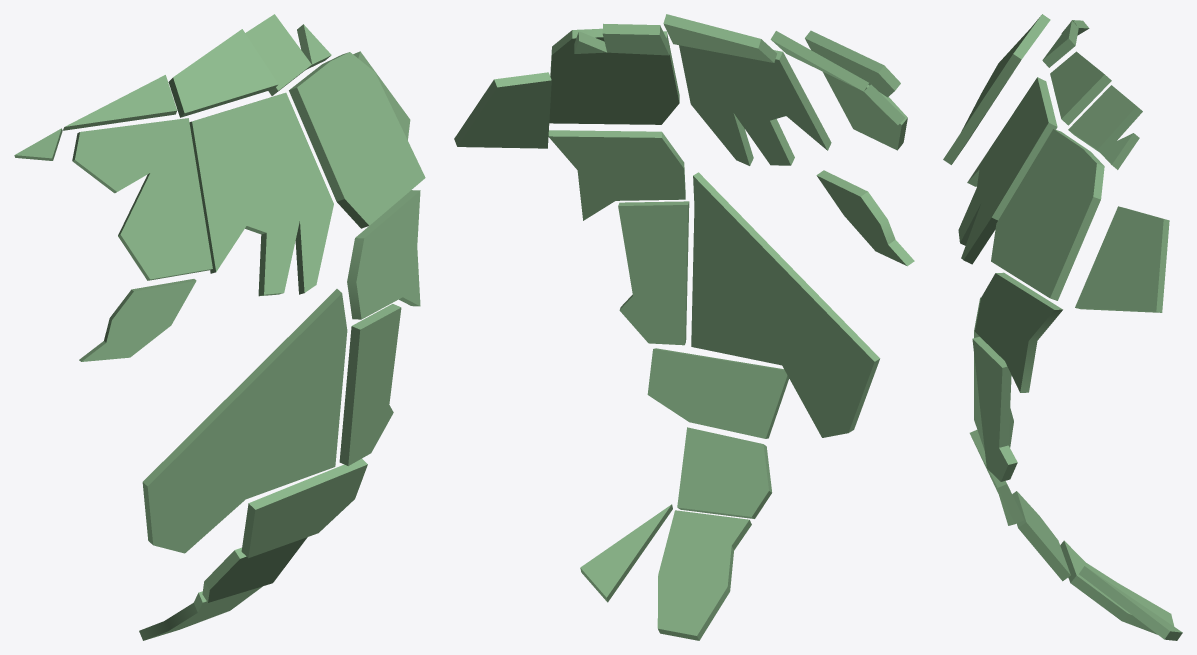
The model's file is Planet_Continent_Tets.fbx.
3 renders of one model, left to right at view 1: azimuth 30°, elevation 25°; view 2: azimuth 150°, elevation 25°; view 3: azimuth 270°, elevation 25°, orthographic. The views are drawn at different scales.
Visible parts, largest first — view 1: polySurface11, polySurface6, polySurface21, polySurface7, polySurface9, polySurface13, polySurface15, polySurface23, polySurface28, polySurface27, polySurface25, polySurface17 (+1 smaller); view 2: polySurface11, polySurface28, polySurface6, polySurface7, polySurface15, polySurface13, polySurface19, polySurface9, polySurface17, polySurface21, polySurface23, polySurface25 (+1 smaller); view 3: polySurface7, polySurface28, polySurface6, polySurface9, polySurface13, polySurface25, polySurface23, polySurface21, polySurface19, polySurface17, polySurface15, polySurface27 (+1 smaller).
Boxes of the visible parts, x1=… form: polySurface11: x1=142, y1=289, x2=347, y2=553; polySurface6: x1=189, y1=92, x2=333, y2=296; polySurface21: x1=72, y1=118, x2=212, y2=280; polySurface7: x1=289, y1=52, x2=425, y2=228; polySurface9: x1=347, y1=190, x2=420, y2=319; polySurface13: x1=339, y1=304, x2=401, y2=465; polySurface15: x1=241, y1=458, x2=367, y2=558; polySurface23: x1=168, y1=29, x2=278, y2=117; polySurface28: x1=79, y1=51, x2=410, y2=361; polySurface27: x1=14, y1=75, x2=177, y2=160; polySurface25: x1=245, y1=14, x2=331, y2=95; polySurface17: x1=202, y1=537, x2=307, y2=602; polySurface11: x1=691, y1=172, x2=880, y2=437; polySurface28: x1=454, y1=72, x2=914, y2=602; polySurface6: x1=679, y1=45, x2=831, y2=165; polySurface7: x1=549, y1=28, x2=679, y2=124; polySurface15: x1=647, y1=348, x2=789, y2=438; polySurface13: x1=618, y1=201, x2=689, y2=345; polySurface19: x1=657, y1=510, x2=751, y2=640; polySurface9: x1=548, y1=130, x2=685, y2=220; polySurface17: x1=677, y1=427, x2=772, y2=518; polySurface21: x1=805, y1=30, x2=907, y2=150; polySurface23: x1=663, y1=14, x2=776, y2=62; polySurface25: x1=574, y1=23, x2=669, y2=55; polySurface7: x1=991, y1=129, x2=1104, y2=300; polySurface28: x1=1075, y1=206, x2=1182, y2=640; polySurface6: x1=958, y1=77, x2=1057, y2=264; polySurface9: x1=975, y1=272, x2=1062, y2=392; polySurface13: x1=972, y1=336, x2=1017, y2=481; polySurface25: x1=1068, y1=85, x2=1142, y2=169; polySurface23: x1=1050, y1=51, x2=1111, y2=125; polySurface21: x1=943, y1=14, x2=1050, y2=164; polySurface19: x1=1060, y1=540, x2=1174, y2=634; polySurface17: x1=1012, y1=491, x2=1070, y2=581; polySurface15: x1=969, y1=430, x2=1024, y2=525; polySurface27: x1=1042, y1=20, x2=1089, y2=67.
Bounding box in the file's own units: 729 × 992 × 373.
